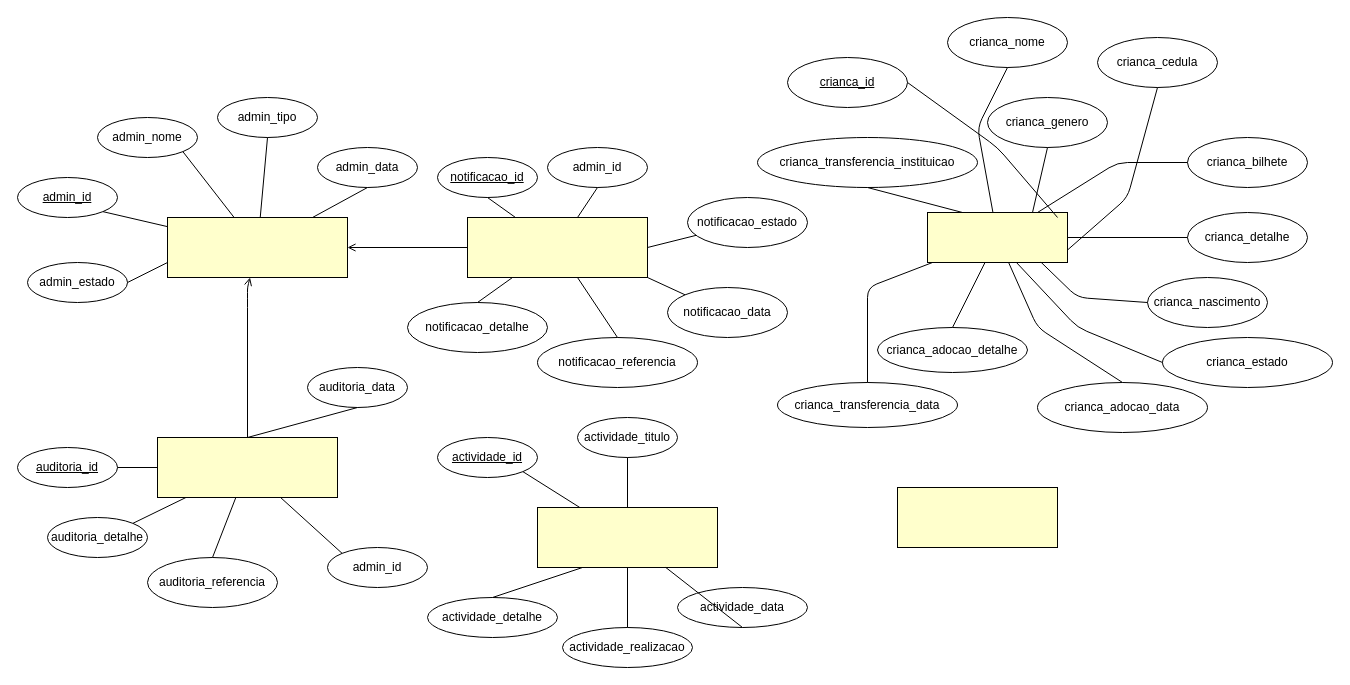
The diagram is 1350 pixels wide and 685 high, and some of its shapes have lost their labels. The shapes that lost their labels are listed below. From the top down, each one's box as (x1, y1, x2, y2) in pixels, then its label:
(166, 216, 348, 278): admin
(466, 216, 648, 278): notificacao
(926, 212, 1068, 262): crianca
(156, 436, 338, 498): auditoria
(536, 506, 718, 568): actividade
(896, 486, 1058, 548): doacao
